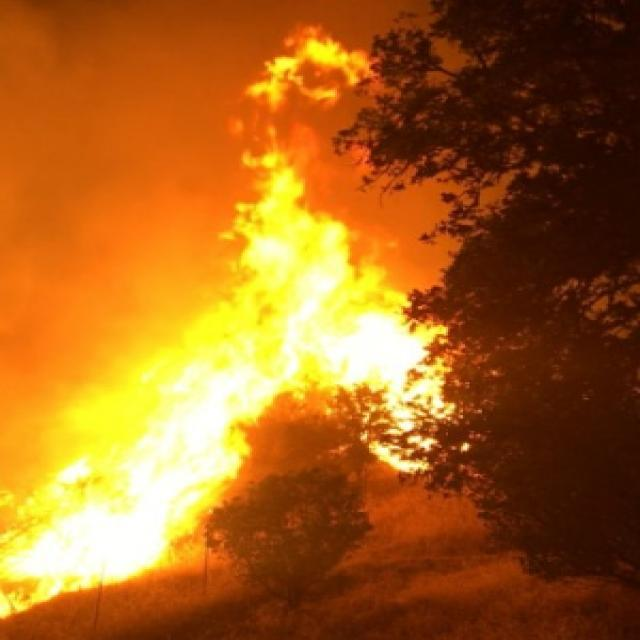Fire: (242, 32, 366, 414), (0, 434, 298, 541)
